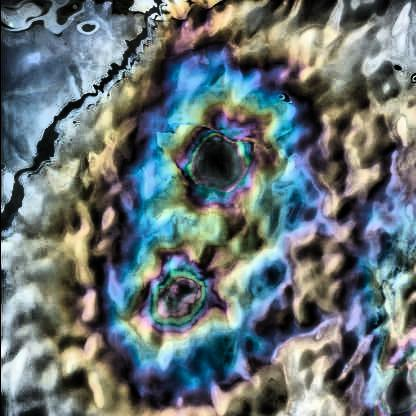rainbow: (54, 0, 416, 416)
